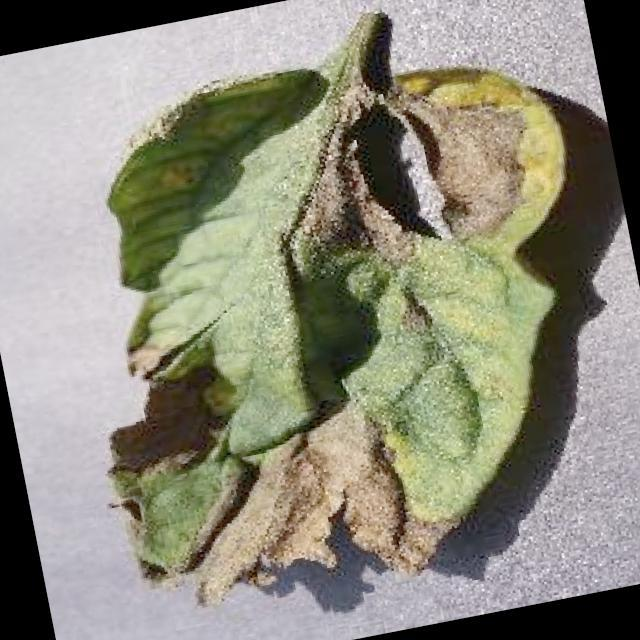Tomato late blight leaf: (36, 10, 640, 630)
